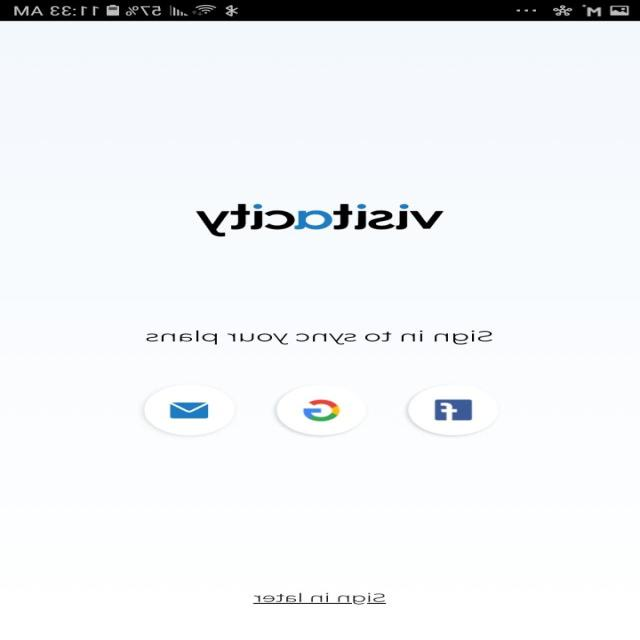Icon: (407, 385, 500, 436), (276, 384, 368, 435), (144, 384, 236, 435)
Image: (195, 203, 444, 236)
Text: (146, 330, 494, 344), (253, 592, 387, 605)
